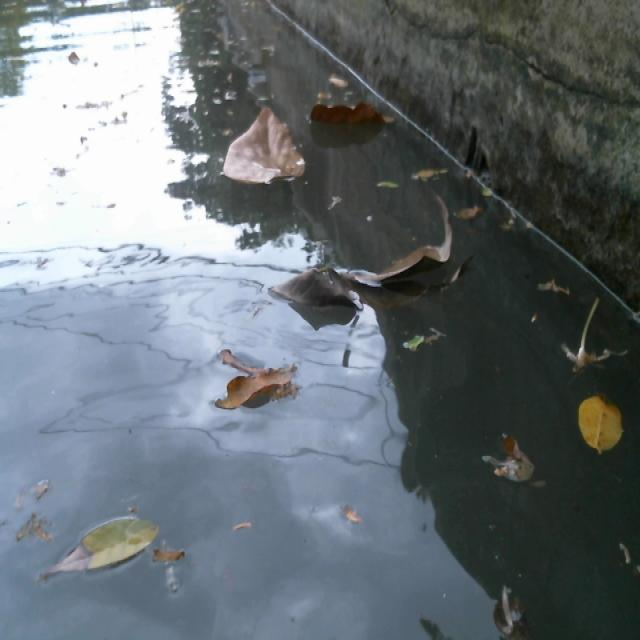Big-leaf: (261, 195, 467, 330), (202, 339, 303, 439), (206, 106, 308, 198), (311, 104, 399, 145)
Small-leaf: (39, 496, 160, 588), (468, 410, 545, 502), (575, 387, 628, 453), (488, 572, 530, 640), (530, 272, 585, 307), (395, 324, 445, 358), (148, 533, 183, 570), (408, 163, 459, 188), (448, 198, 486, 231), (325, 65, 352, 94), (235, 512, 262, 537), (373, 175, 405, 195)
